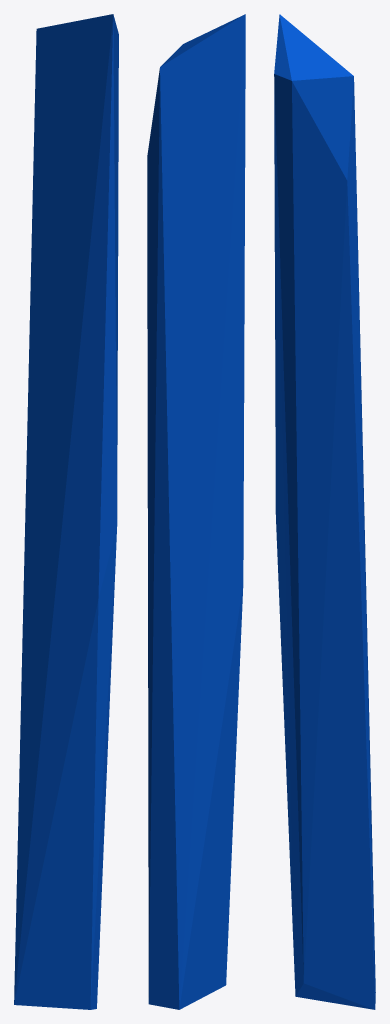
File: organic_bin_convex_piece_008.obj
The picture shows the model from 3 angles, left to right: view 1: azimuth 90°, elevation 25°; view 2: azimuth 150°, elevation 25°; view 3: azimuth 270°, elevation 25°; orthographic projection. The views are drawn at different scales.
Bounding box in the file's own units: 0.0299 × 0.397 × 0.0376.
